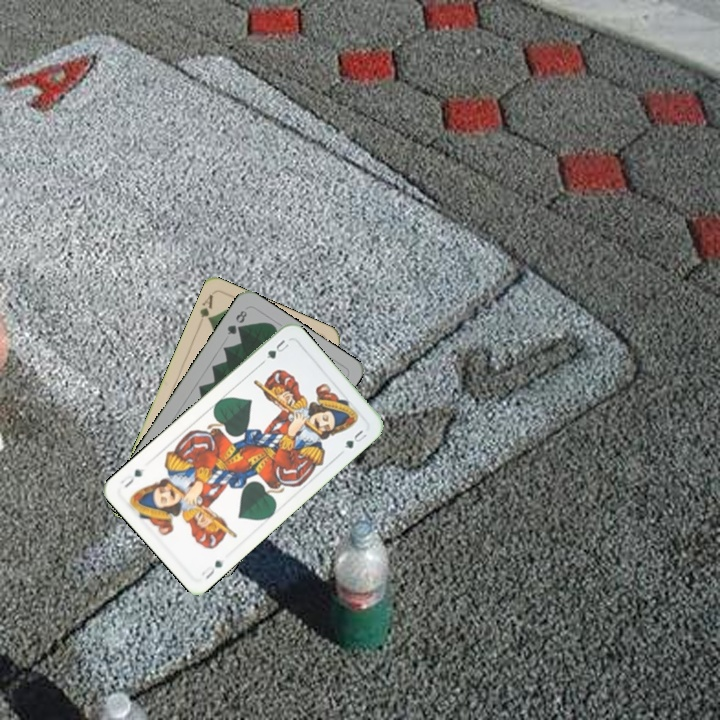G8: (223, 306, 250, 337)
GA: (196, 290, 216, 324)
GU: (262, 335, 292, 361), (197, 556, 226, 582)
